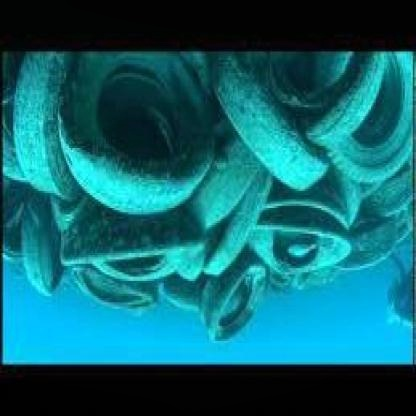tire: (64, 43, 222, 214), (196, 47, 334, 195), (289, 50, 408, 186), (63, 221, 212, 302), (257, 191, 358, 283), (183, 236, 267, 343)
